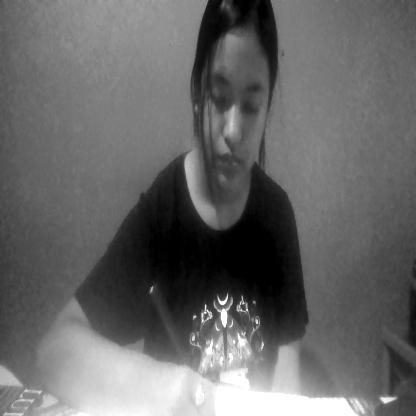Normal: (195, 3, 272, 197)
